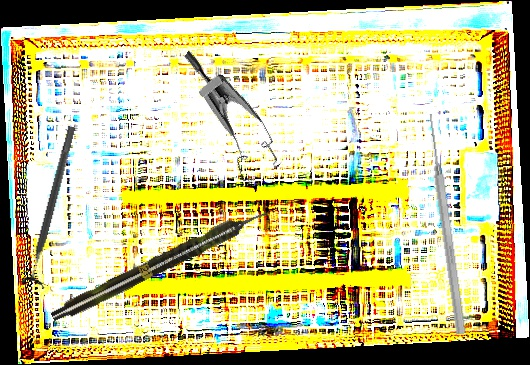Fixation Ring: (19, 123, 85, 290)
Handpiece: (47, 203, 272, 327)
Pusher: (423, 113, 469, 335)
Speculum: (146, 49, 302, 193)
